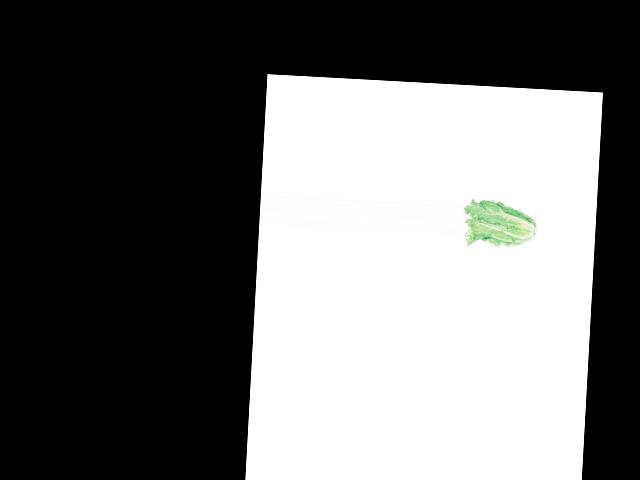lettuce: (461, 198, 537, 251)
